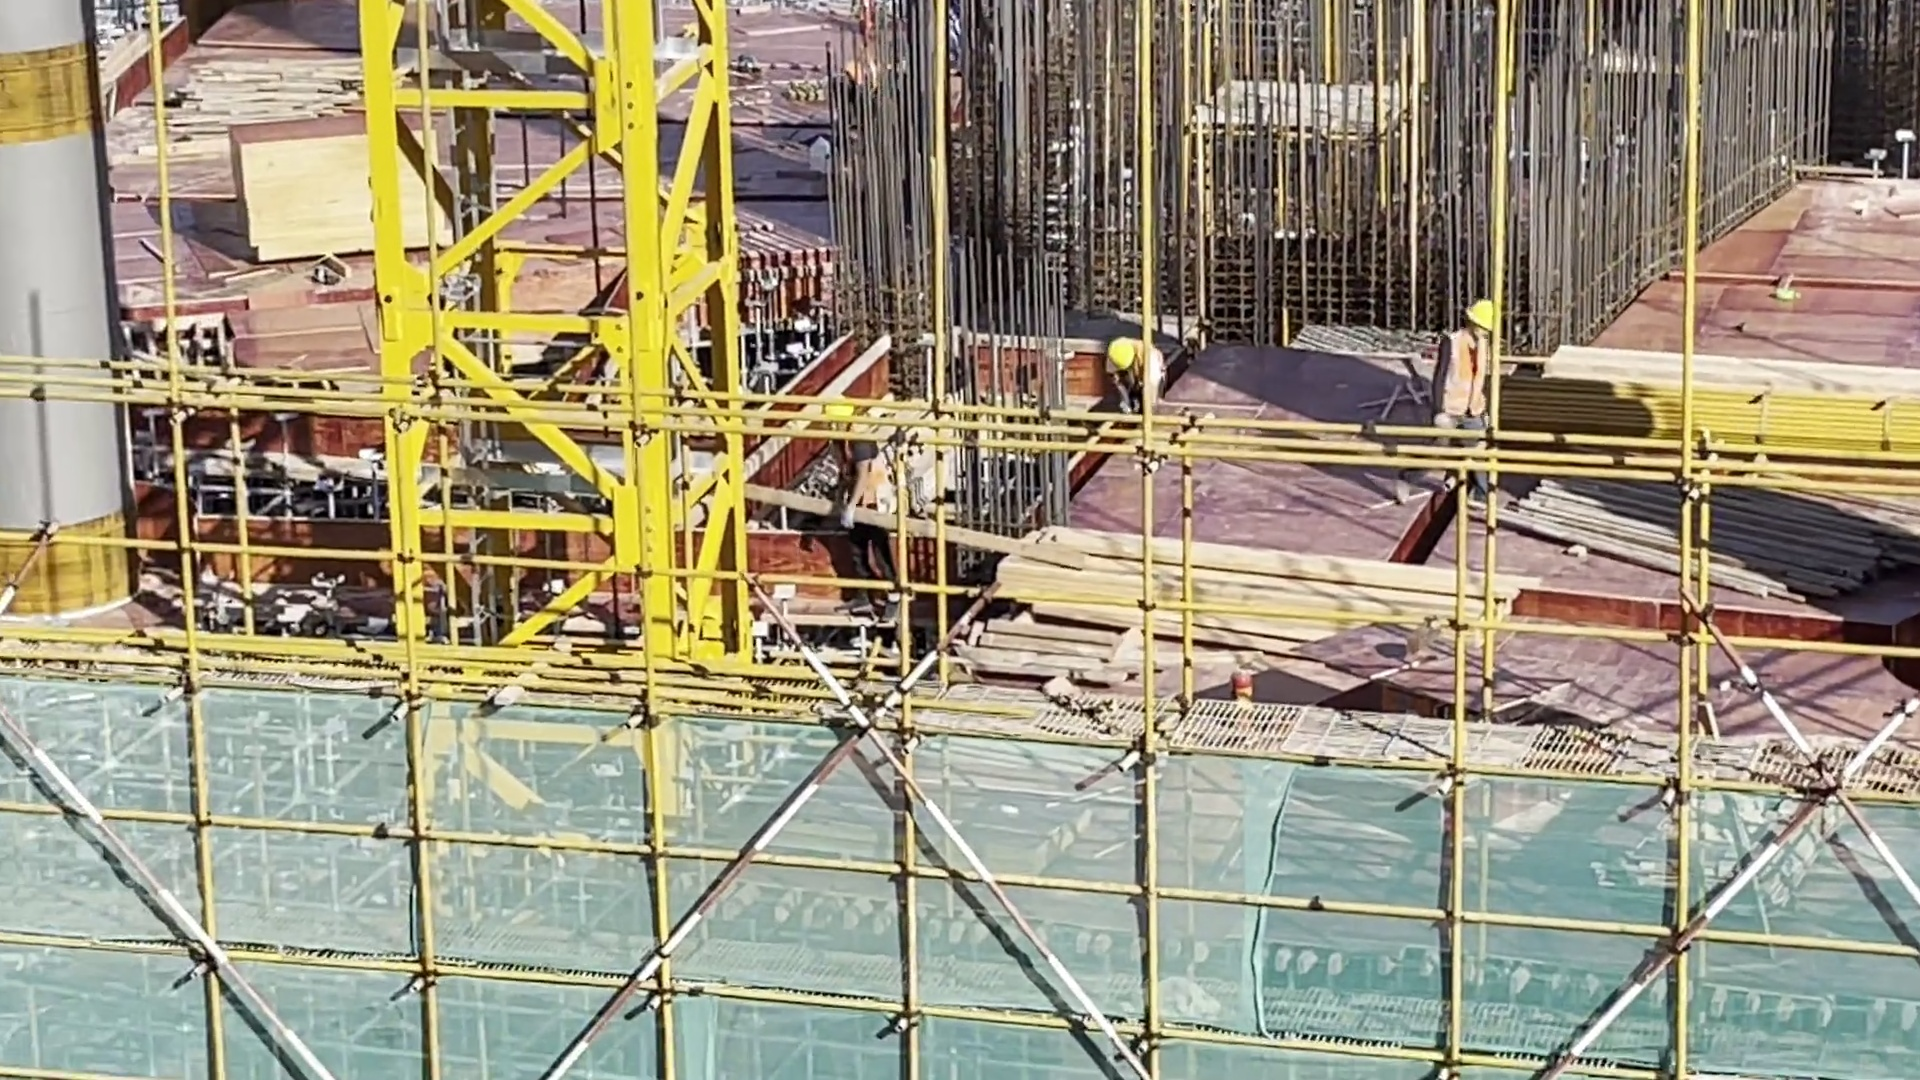board: (966, 511, 1467, 715)
helmet: (1097, 340, 1136, 379)
person: (1435, 290, 1506, 444), (1105, 333, 1167, 412)
vest: (1443, 339, 1489, 422)
